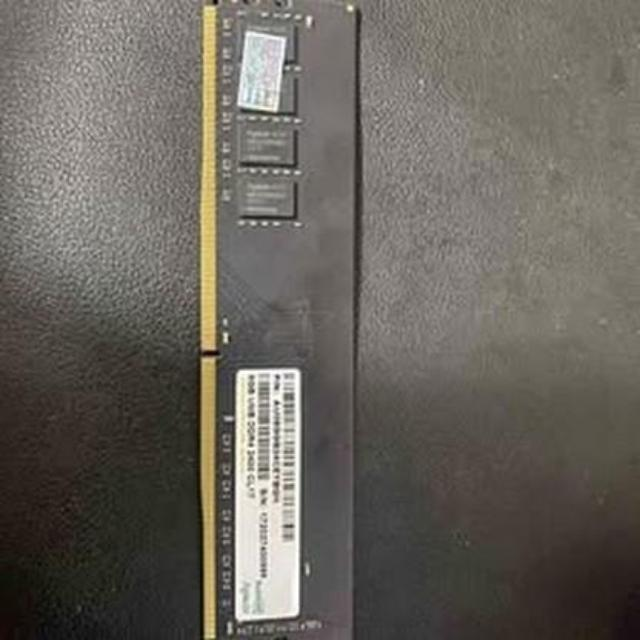RAM: (194, 0, 358, 640)
